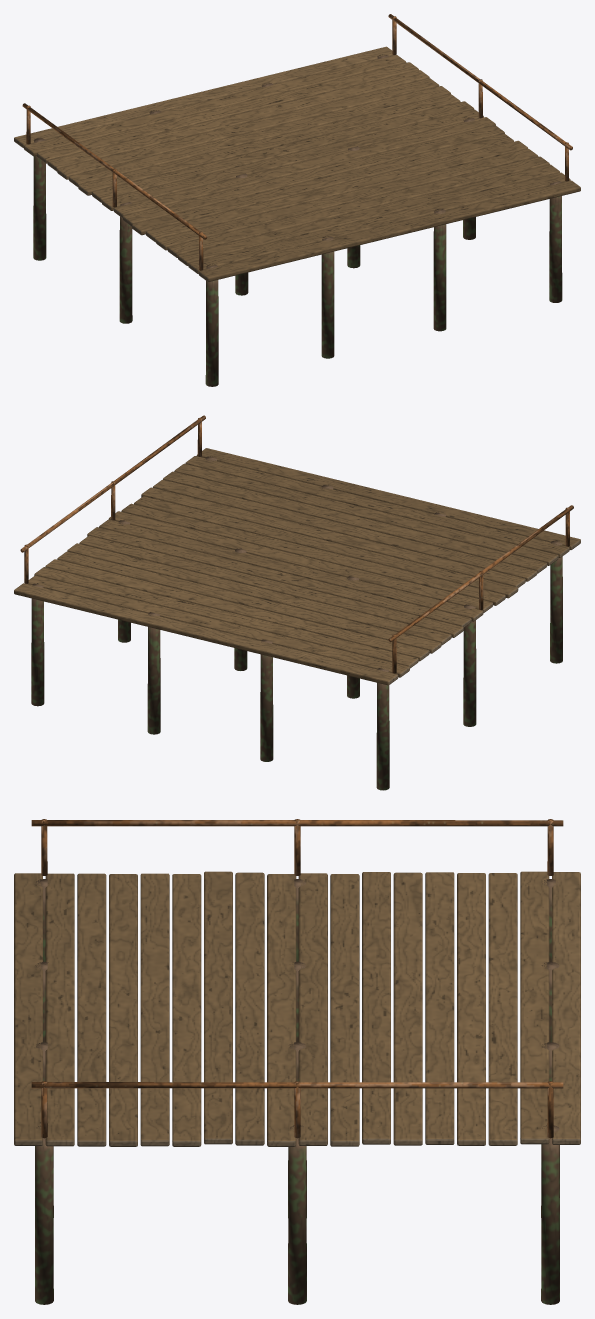
Rendered from stilt_platform.glb.
The picture shows the model from 3 angles, top to bottom: view 1: azimuth 30°, elevation 25°; view 2: azimuth 150°, elevation 25°; view 3: azimuth 270°, elevation 25°; orthographic projection. The views are drawn at different scales.
Visible parts, largest first — view 1: Platform; view 2: Platform; view 3: Platform.
Boxes of the visible parts, x1,y1,x2,y2 form: Platform: [14, 14, 580, 386]; Platform: [14, 415, 580, 790]; Platform: [14, 819, 580, 1304].
Size of the model in its own units: 10.09 by 3.95 by 8.96.
1 material, 1 textured.
